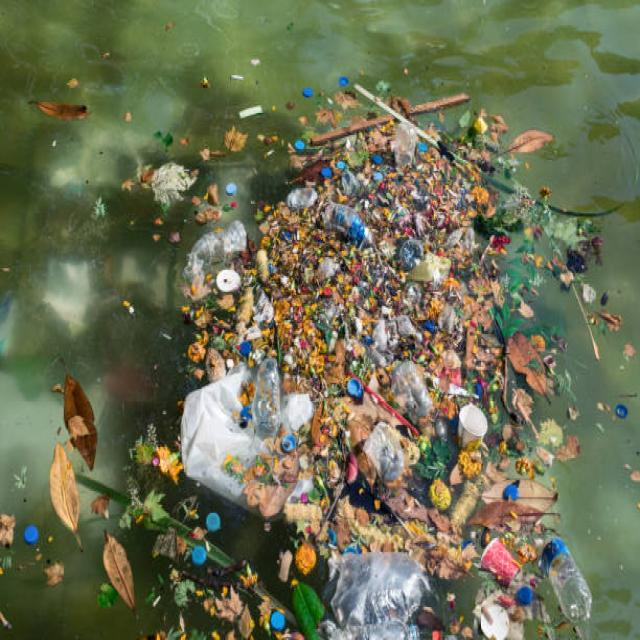garbage: (162, 75, 608, 640)
